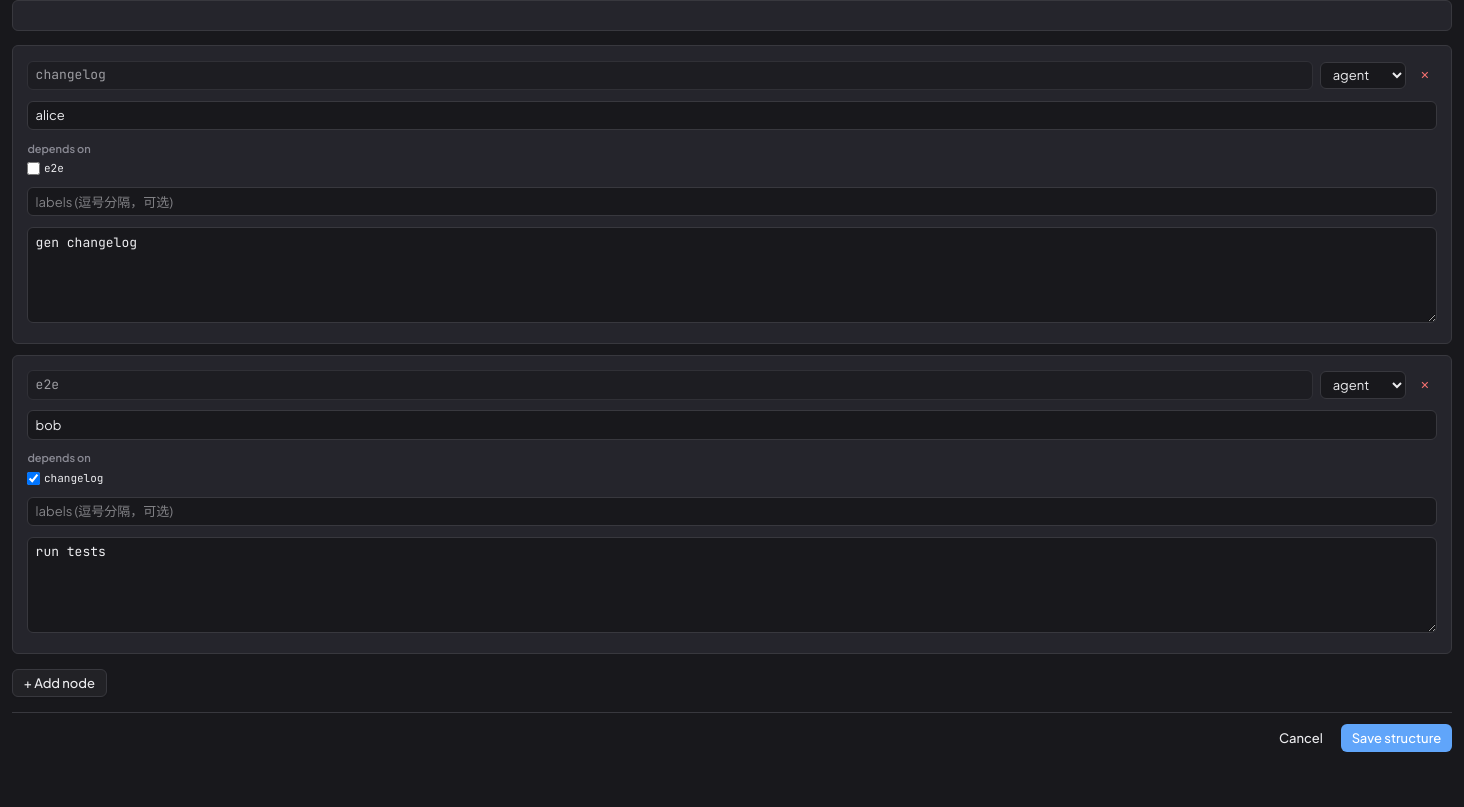
Test case: FlowStructureEditor › a newly added node has an editable id input
Click the button with test id "fse-add": (59, 683) [12,669,107,697]
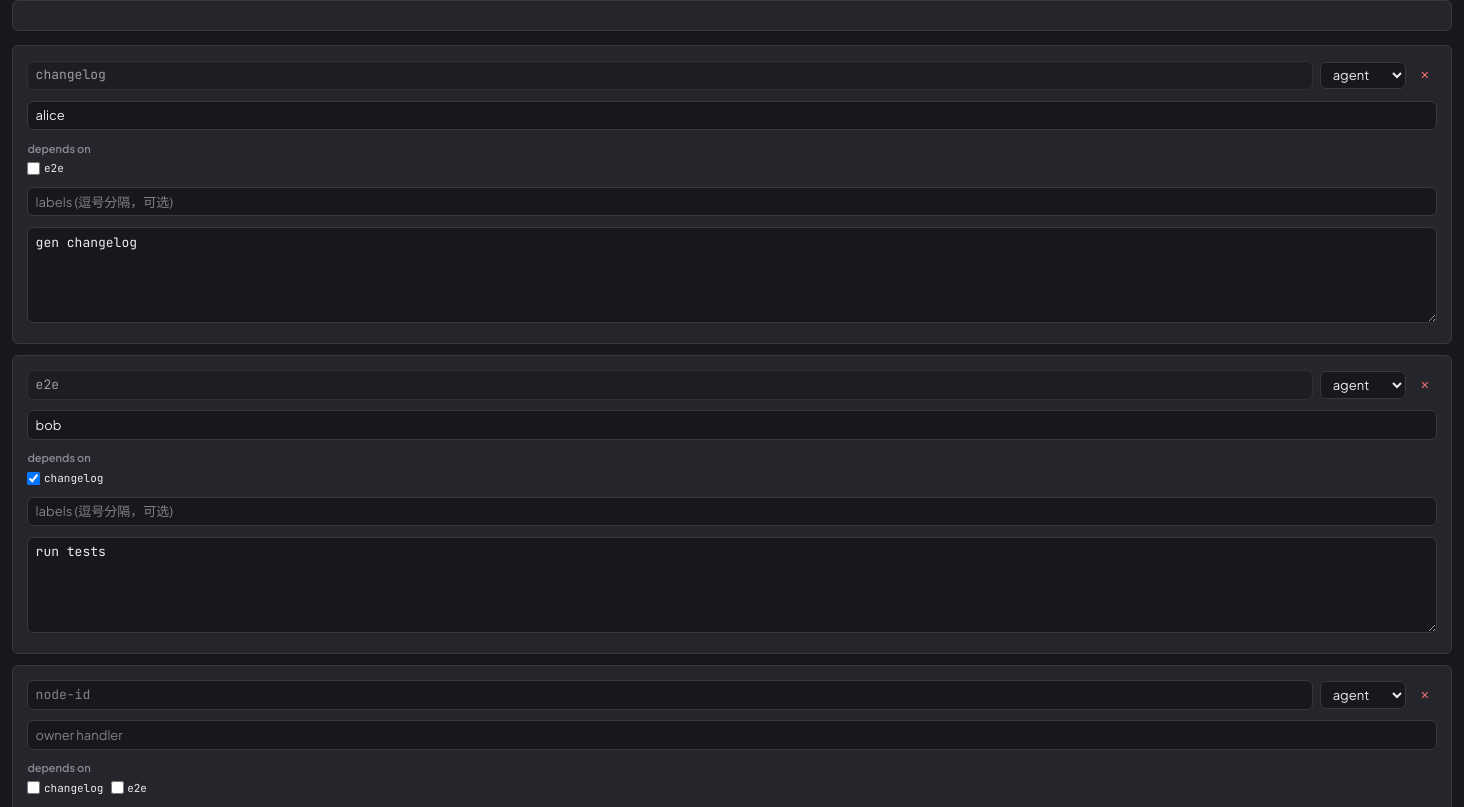
Now the field with test id "fse-node-id" is enabled, box [27,680,1313,710]
